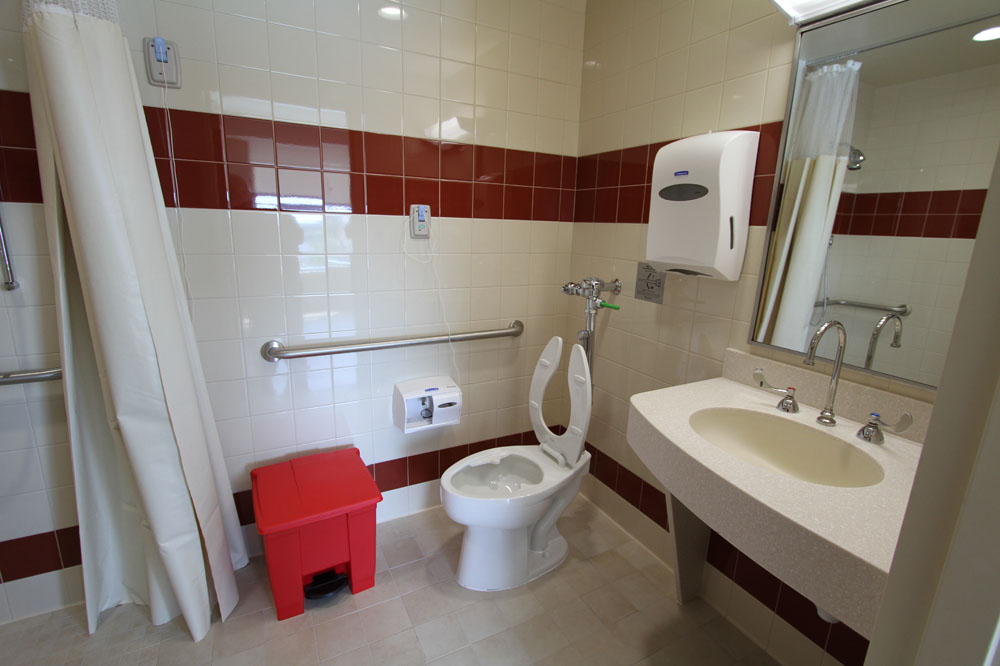countertop: (660, 394, 895, 543)
curtain: (24, 2, 252, 641), (751, 60, 862, 347)
dispenser: (647, 128, 760, 283), (395, 372, 466, 437)
faucet: (752, 319, 913, 448), (864, 314, 899, 375)
restroom_assist_bar: (262, 318, 528, 361), (809, 296, 910, 317), (1, 357, 62, 390)
sink: (684, 406, 890, 495)
toilet: (441, 337, 595, 594)
toilet_handle: (596, 293, 624, 315)
waste_bin: (250, 446, 384, 621)
